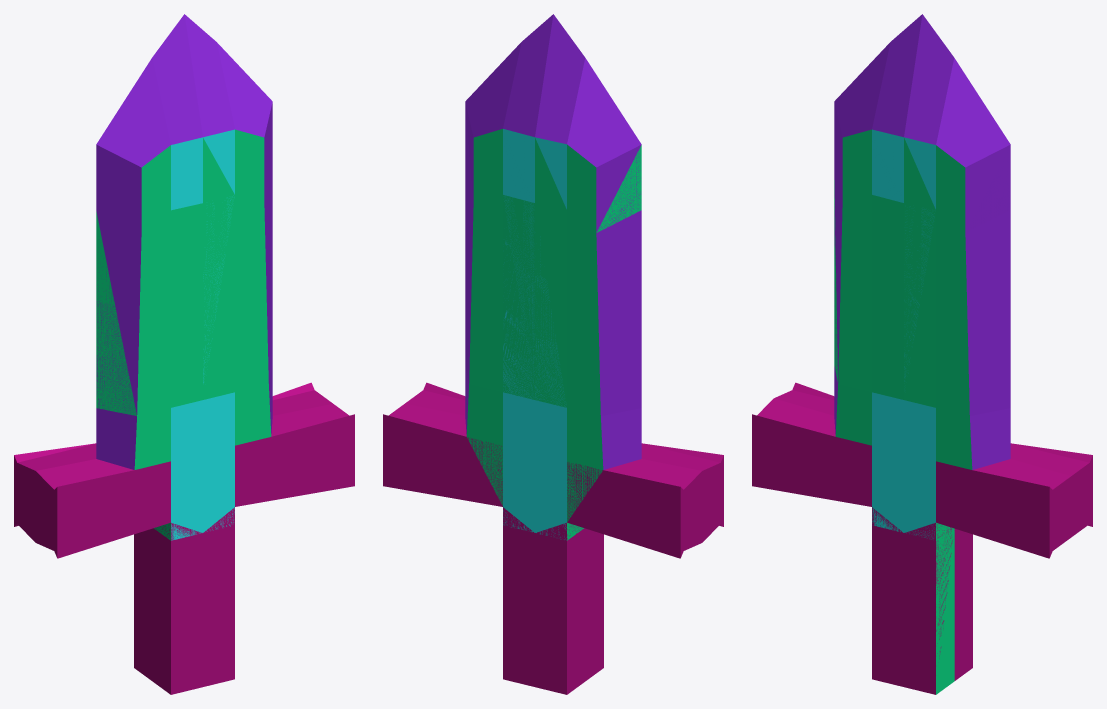
File: gamer sword.gltf
The picture shows the model from 3 angles, left to right: view 1: azimuth 30°, elevation 25°; view 2: azimuth 150°, elevation 25°; view 3: azimuth 330°, elevation 25°; orthographic projection.
Parts seen in each view (by area): view 1: Cube.001; view 2: Cube.001; view 3: Cube.001.
Part boxes in pixels (x1=…): Cube.001: x1=14, y1=14, x2=354, y2=694; Cube.001: x1=383, y1=14, x2=723, y2=694; Cube.001: x1=752, y1=14, x2=1092, y2=694.
Size of the model in its own units: 2.78 by 5.9 by 0.7029.
